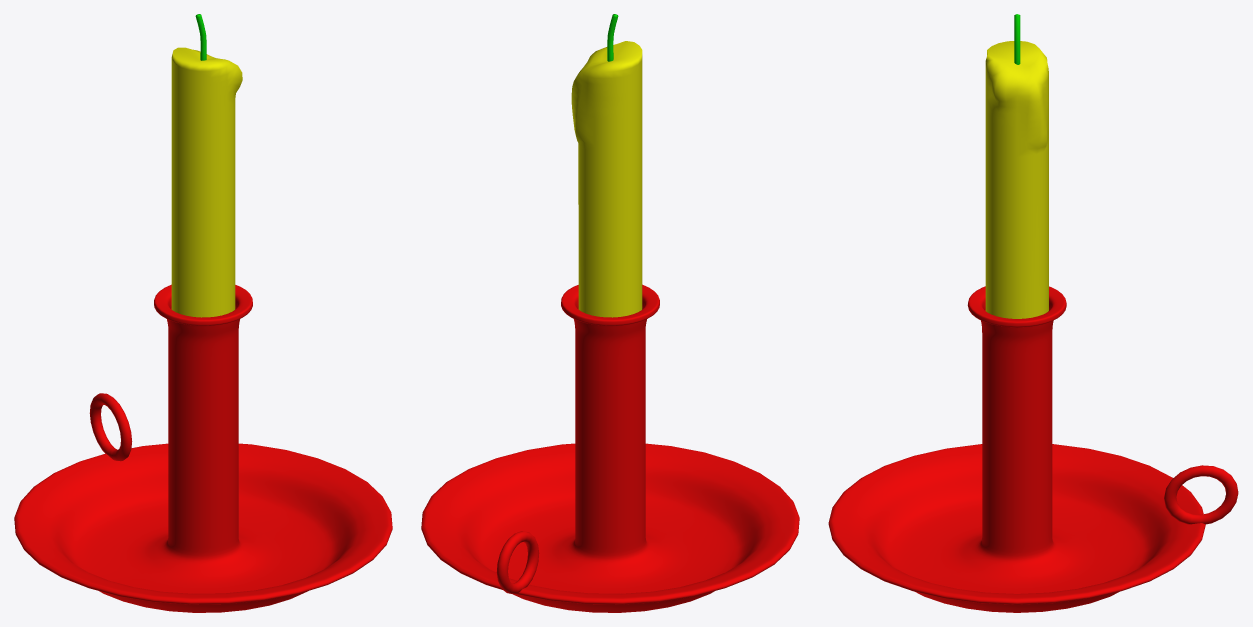
Rendered from FO_Candle.fbx.
The picture shows the model from 3 angles, left to right: view 1: azimuth 30°, elevation 25°; view 2: azimuth 150°, elevation 25°; view 3: azimuth 270°, elevation 25°; orthographic projection.
Parts seen in each view (by area): view 1: Holder, Candle; view 2: Holder, Candle; view 3: Holder, Candle.
Part boxes in pixels (left/top/right/bottom): Holder: left=14, top=284, right=392, bottom=612; Candle: left=171, top=47, right=242, bottom=317; Holder: left=421, top=284, right=799, bottom=612; Candle: left=571, top=41, right=642, bottom=317; Holder: left=828, top=286, right=1238, bottom=612; Candle: left=985, top=41, right=1048, bottom=318.
Size of the model in its own units: 0.1305 by 0.2073 by 0.1417.
